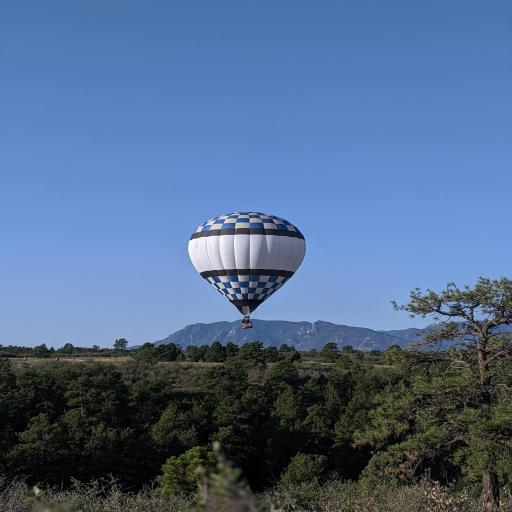hot air ballon: (190, 210, 306, 324)
